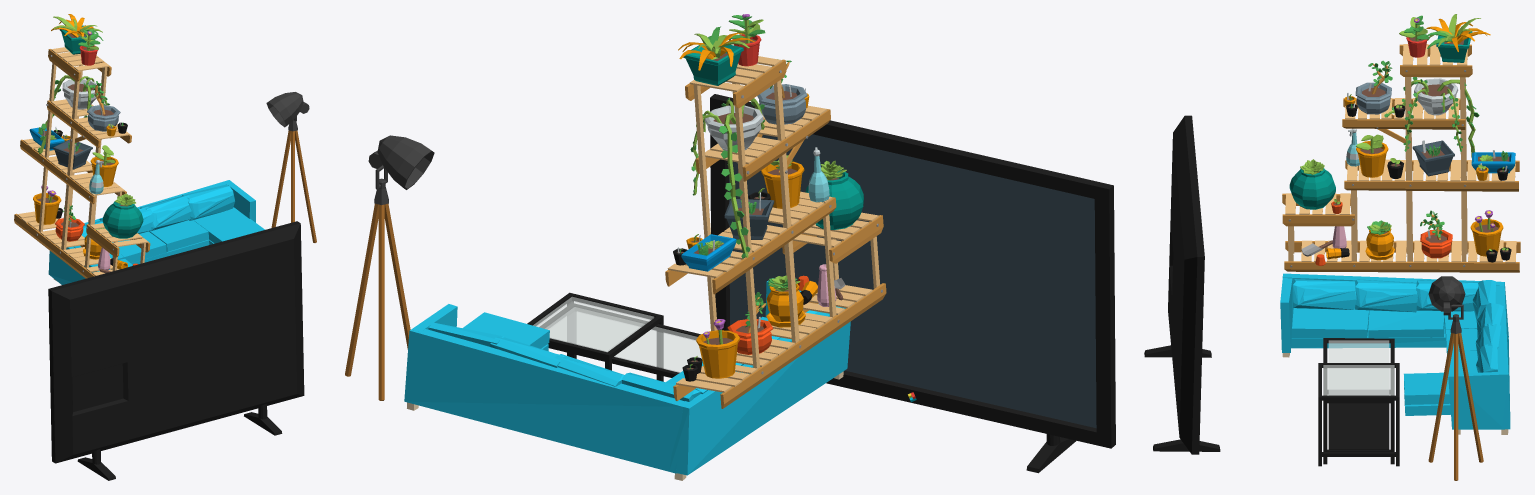
The picture shows the model from 3 angles, left to right: view 1: azimuth 30°, elevation 25°; view 2: azimuth 150°, elevation 25°; view 3: azimuth 270°, elevation 25°; orthographic projection. The views are drawn at different scales.
Visible parts, largest first — view 1: Node-Mesh001, group329520873, Cylinder398, group1097500883, group718421555, group975749564, group1643965277, group552221921, Cylinder400, group188964254, group343148839, group1421899832 (+11 smaller); view 2: Node-Mesh001_1, group329520873, group1168210582, Node-Mesh001, group48918404, Node-Mesh_1, Node-Mesh, Cylinder398, group188964254, Cylinder400, group718421555, group1246536235 (+13 smaller); view 3: group329520873, Node-Mesh001, Node-Mesh, Node-Mesh_1, group757148259, Cylinder398, group1974898934, group144543017, group548102949, group1733011213, group718421555, group188964254 (+25 smaller).
Part boxes in pixels (x1,y1,x2,y2): Node-Mesh001: (48,221,304,480); group329520873: (14,47,150,278); Cylinder398: (271,116,316,242); group1097500883: (193,207,264,243); group718421555: (102,193,143,238); group975749564: (182,184,234,220); group1643965277: (149,220,208,251); group552221921: (140,195,191,231); Cylinder400: (266,92,309,127); group188964254: (51,14,103,54); group343148839: (87,81,120,131); group1421899832: (112,231,166,263); Node-Mesh001_1: (729,134,1096,428); group329520873: (665,56,886,408); group1168210582: (404,329,684,473); Node-Mesh001: (710,94,1115,473); group48918404: (669,306,850,475); Node-Mesh_1: (533,296,701,372); Node-Mesh: (527,292,700,381); Cylinder398: (345,165,410,400); group188964254: (678,26,754,85); Cylinder400: (368,135,434,189); group718421555: (805,160,863,229); group1246536235: (696,319,739,378); group329520873: (1282,44,1520,272); Node-Mesh001: (1144,115,1220,454); Node-Mesh: (1318,338,1399,466); Node-Mesh_1: (1323,340,1394,395); group757148259: (1448,371,1505,429); Cylinder398: (1428,304,1483,480); group1974898934: (1291,308,1369,337); group144543017: (1368,310,1444,337); group548102949: (1355,279,1417,312); group1733011213: (1293,279,1356,309); group718421555: (1289,159,1335,209); group188964254: (1426,14,1490,62).
Bounding box in the file's own units: 3.94 × 3.35 × 2.91.
